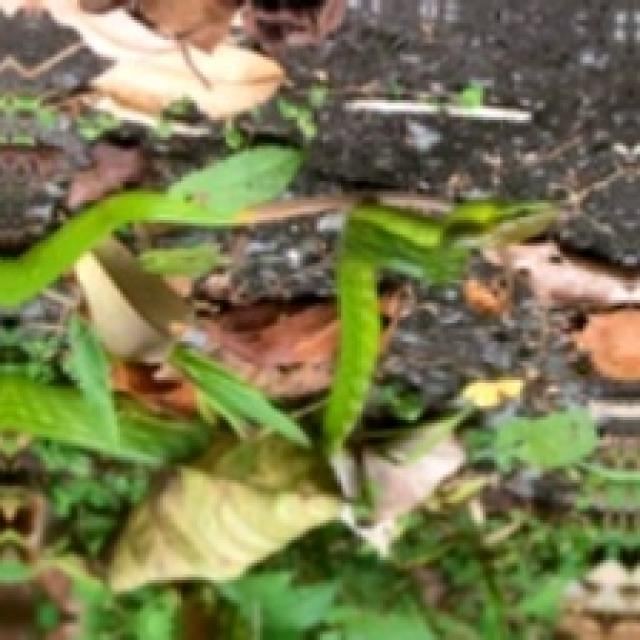red-tailed green ratsnake: (321, 202, 538, 452), (0, 191, 230, 306), (0, 377, 208, 467)
